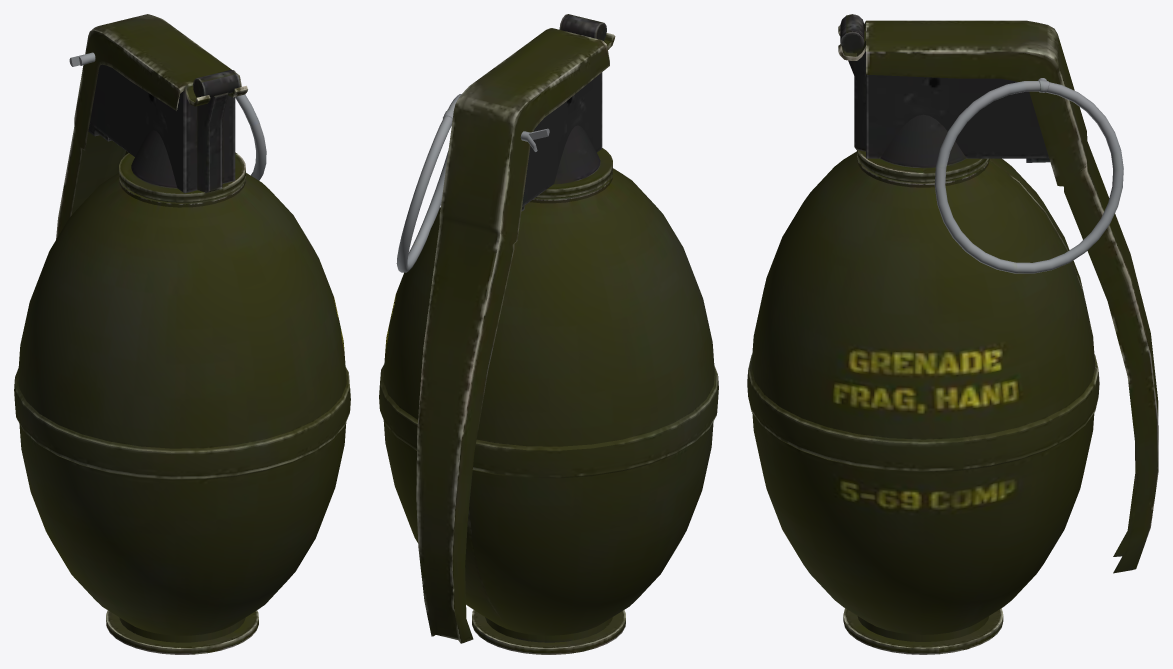
File: frag_hi.glb
The picture shows the model from 3 angles, left to right: view 1: azimuth 30°, elevation 25°; view 2: azimuth 150°, elevation 25°; view 3: azimuth 270°, elevation 25°; orthographic projection. The views are drawn at different scales.
Parts seen in each view (by area): view 1: Grenade, Pin; view 2: Grenade, Pin; view 3: Grenade, Pin.
Part boxes in pixels (x1,y1,x2,y2): Grenade: (14, 14, 350, 654); Pin: (69, 52, 266, 180); Grenade: (379, 14, 718, 654); Pin: (396, 94, 549, 272); Grenade: (747, 14, 1158, 654); Pin: (934, 78, 1123, 273).
Bounding box in the file's own units: 0.0544 × 0.1018 × 0.0635.
Materials: 1 (1 with a texture image).
